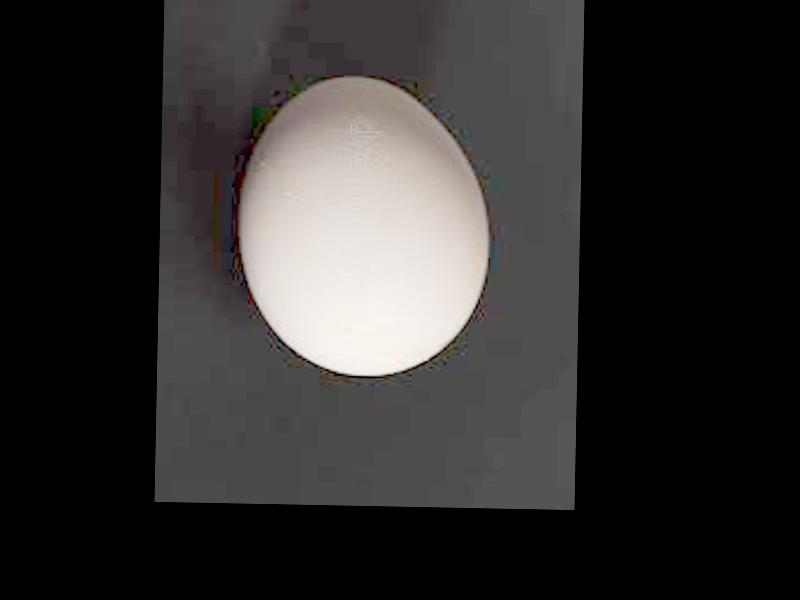Eggs: (239, 76, 490, 380)
